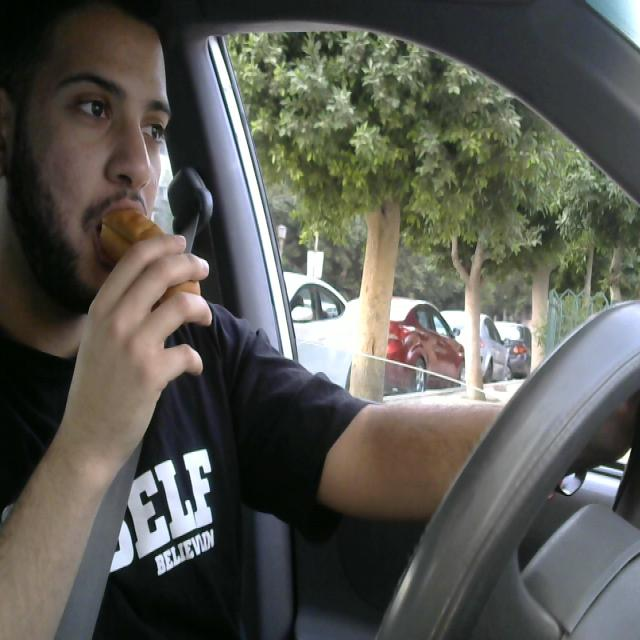eating: (86, 202, 219, 342)
